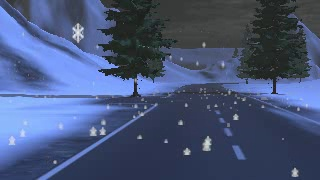Lane: (44, 82, 319, 179)
